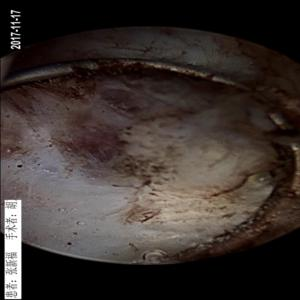film: (26, 85, 204, 207)
